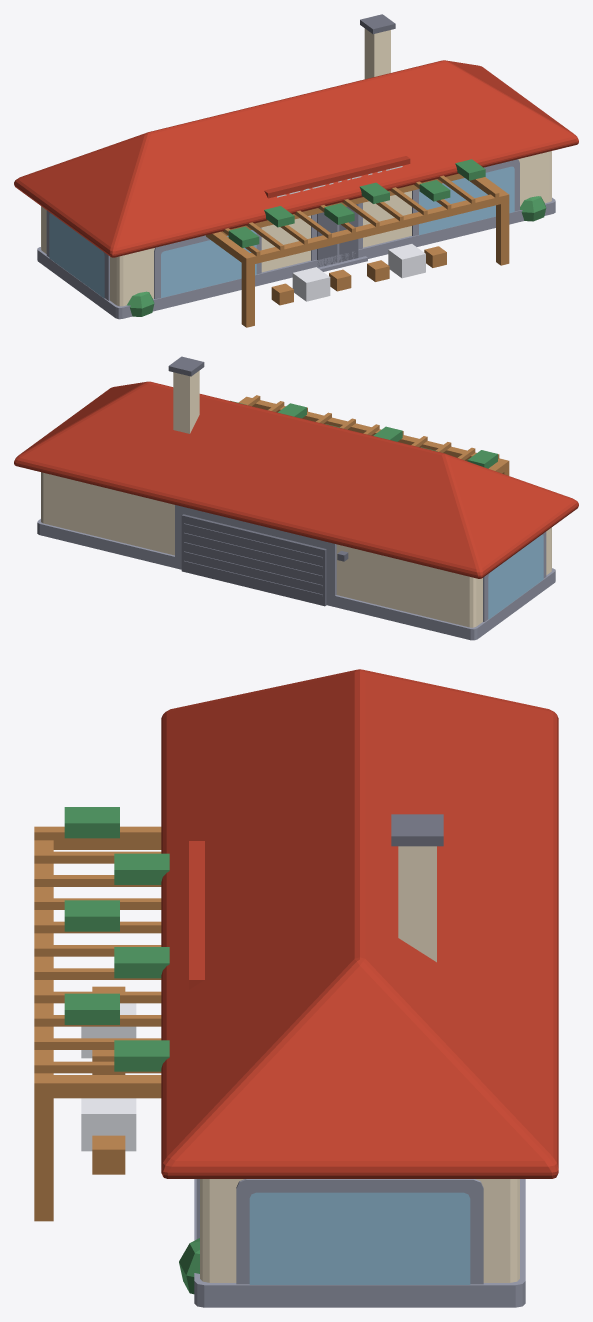
The model's file is restaurant-2x1-t2-tone-a.glb.
The picture shows the model from 3 angles, top to bottom: view 1: azimuth 30°, elevation 25°; view 2: azimuth 150°, elevation 25°; view 3: azimuth 270°, elevation 25°; orthographic projection. The views are drawn at different scales.
Parts seen in each view (by area): view 1: restaurant-2x1-t2-tone-a; view 2: restaurant-2x1-t2-tone-a; view 3: restaurant-2x1-t2-tone-a.
Part boxes in pixels (bbox=[...]): restaurant-2x1-t2-tone-a: bbox=[14, 14, 578, 327]; restaurant-2x1-t2-tone-a: bbox=[14, 356, 578, 640]; restaurant-2x1-t2-tone-a: bbox=[34, 669, 558, 1307].
Size of the model in its own units: 1.96 by 0.7221 by 0.95.
Materials: 1 (1 with a texture image).
